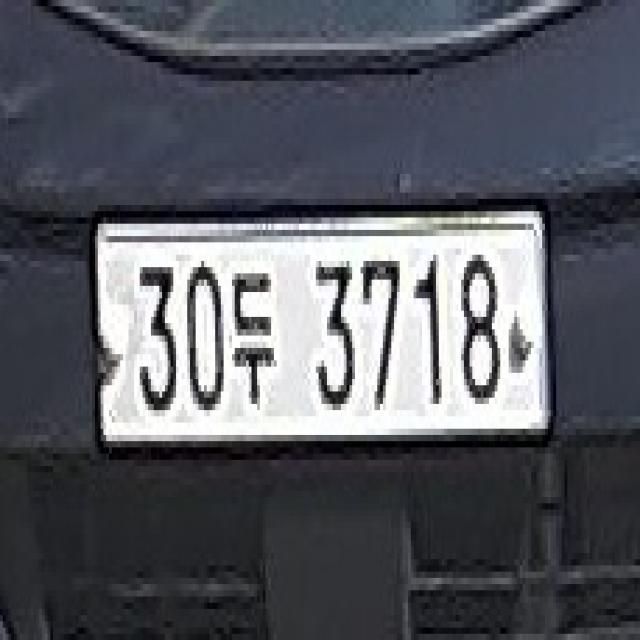0: (184, 261, 227, 416)
1: (414, 261, 447, 410)
3: (313, 255, 358, 416), (137, 255, 179, 416)
7: (363, 255, 402, 416)
8: (461, 255, 503, 410)
du: (232, 274, 274, 416)
license_plate: (90, 205, 556, 447)
